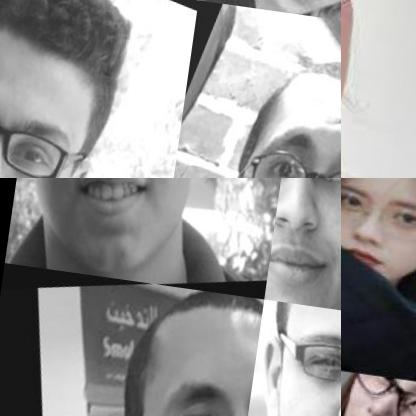Glasses: (341, 178, 415, 266), (341, 369, 415, 415)
glasses: (0, 69, 112, 177), (258, 300, 340, 412), (97, 374, 250, 415), (225, 124, 340, 177), (277, 178, 340, 213)
